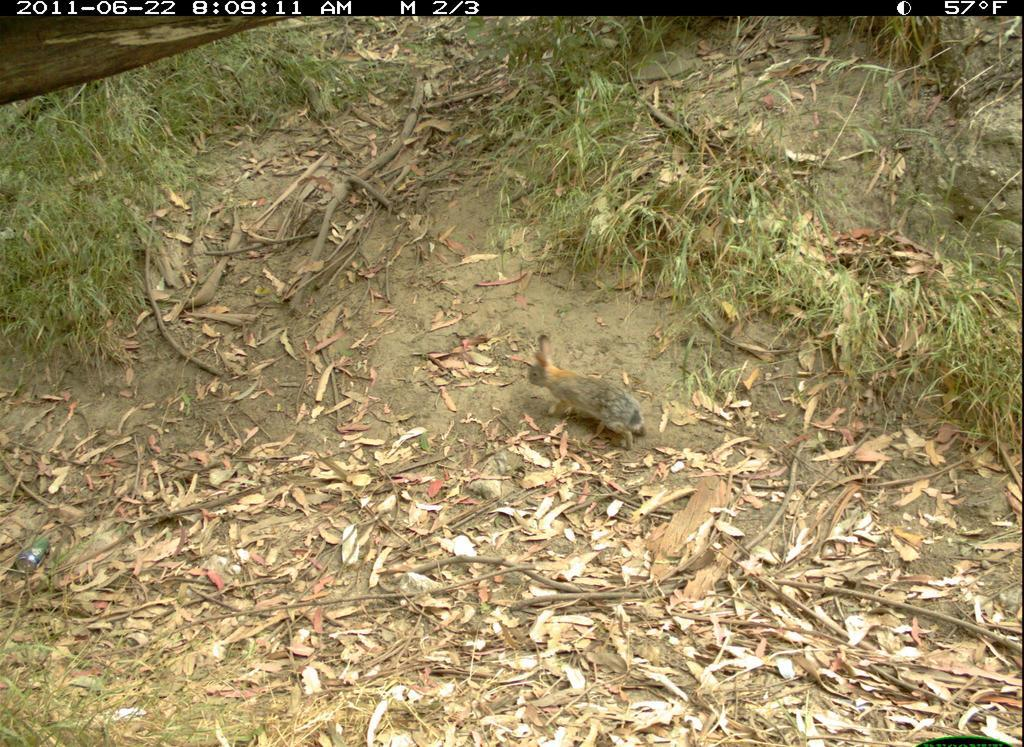rabbit: (516, 327, 658, 456)
